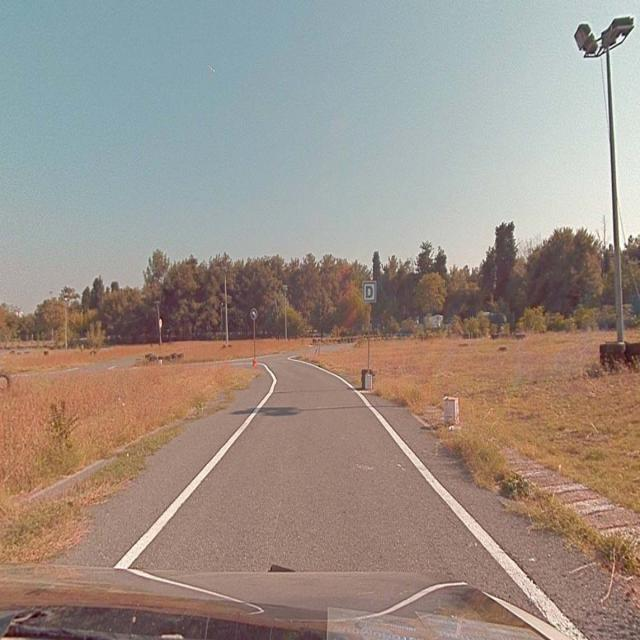durak: (362, 282, 376, 302)
sol: (251, 309, 257, 319)
